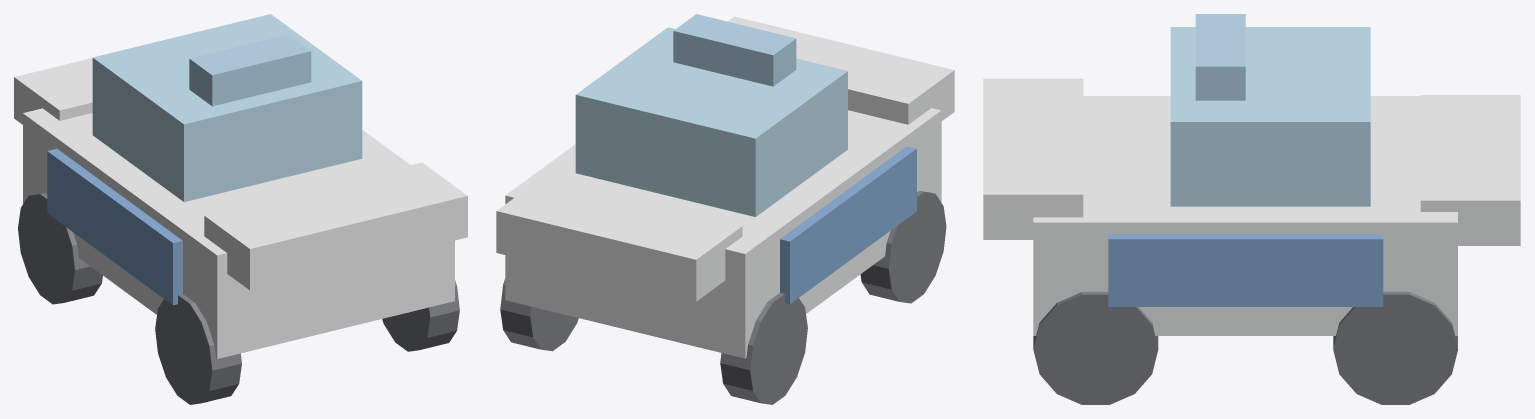
Rendered from police_car.glb.
3 renders of one model, left to right at view 1: azimuth 30°, elevation 25°; view 2: azimuth 150°, elevation 25°; view 3: azimuth 270°, elevation 25°, orthographic. The views are drawn at different scales.
Parts seen in each view (by area): view 1: body, cabin, hood, side_color, light_bar, wheel_0, wheel_2, trunk, wheel_1; view 2: cabin, body, trunk, side_color, hood, light_bar, wheel_2, wheel_0, wheel_3; view 3: body, cabin, side_color, hood, trunk, wheel_1, wheel_3, light_bar.
Part boxes in pixels (x1,y1,x2,y2): body: [23, 108, 454, 358]; cabin: [92, 14, 362, 201]; hood: [204, 162, 467, 290]; side_color: [47, 148, 182, 305]; light_bar: [189, 34, 311, 106]; wheel_0: [155, 294, 241, 404]; wheel_2: [18, 193, 102, 304]; trunk: [14, 58, 92, 124]; wheel_1: [382, 280, 459, 351]; cabin: [575, 27, 847, 216]; body: [505, 108, 941, 358]; trunk: [496, 177, 742, 301]; side_color: [780, 146, 916, 304]; hood: [728, 16, 954, 124]; light_bar: [673, 14, 796, 86]; wheel_2: [720, 293, 807, 404]; wheel_0: [860, 191, 946, 303]; wheel_3: [500, 278, 578, 351]; body: [1033, 96, 1457, 335]; cabin: [1170, 27, 1370, 206]; side_color: [1108, 234, 1383, 306]; hood: [983, 78, 1083, 239]; trunk: [1420, 95, 1520, 245]; wheel_1: [1033, 292, 1158, 404]; wheel_3: [1333, 292, 1457, 404]; light_bar: [1195, 14, 1245, 100].
Bounding box in the file's own units: 0.26 × 0.2637 × 0.43.
